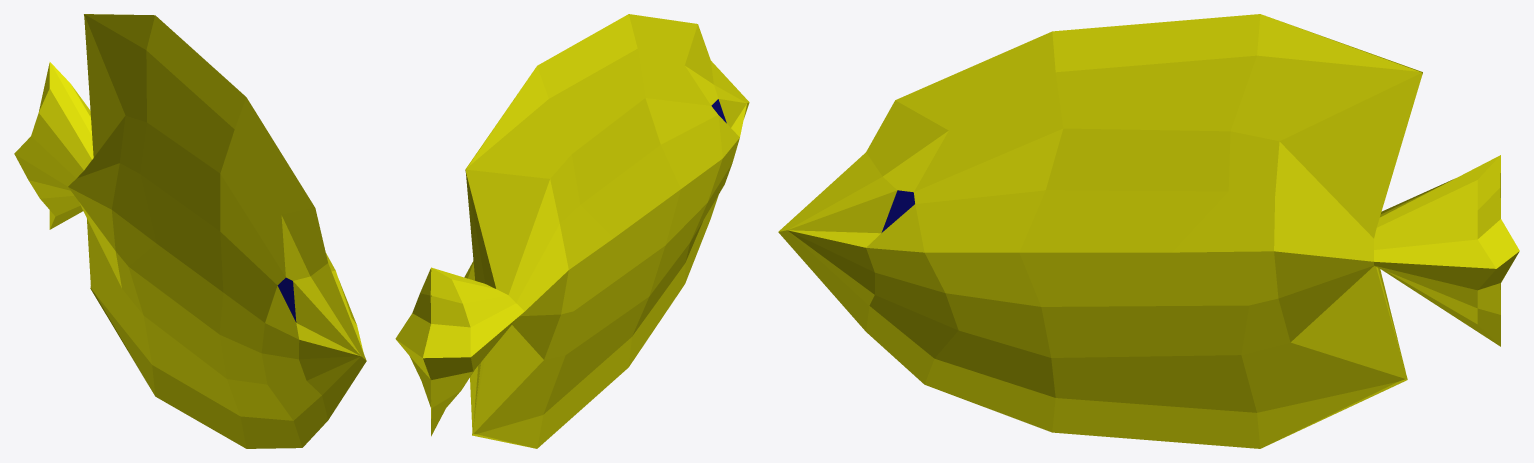
File: Yellow Fish.fbx
The picture shows the model from 3 angles, left to right: view 1: azimuth 30°, elevation 25°; view 2: azimuth 150°, elevation 25°; view 3: azimuth 270°, elevation 25°; orthographic projection. The views are drawn at different scales.
Visible parts, largest first — view 1: pCube1, Angel_Fish:Gold_Fish:Red_Fish:pCube1; view 2: pCube1, Angel_Fish:Gold_Fish:Red_Fish:pCube1; view 3: Angel_Fish:Gold_Fish:Red_Fish:pCube1, pCube1.
Part boxes in pixels (<box>): pCube1: <box>14,14,366,448</box>; Angel_Fish:Gold_Fish:Red_Fish:pCube1: <box>50,14,363,386</box>; pCube1: <box>423,14,749,448</box>; Angel_Fish:Gold_Fish:Red_Fish:pCube1: <box>395,148,533,448</box>; Angel_Fish:Gold_Fish:Red_Fish:pCube1: <box>778,14,1519,448</box>; pCube1: <box>1269,31,1511,444</box>.
Bounding box in the file's own units: 0.2238 × 1.09 × 1.68.
